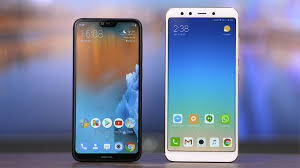nokia: (166, 6, 241, 163), (70, 14, 144, 164)
